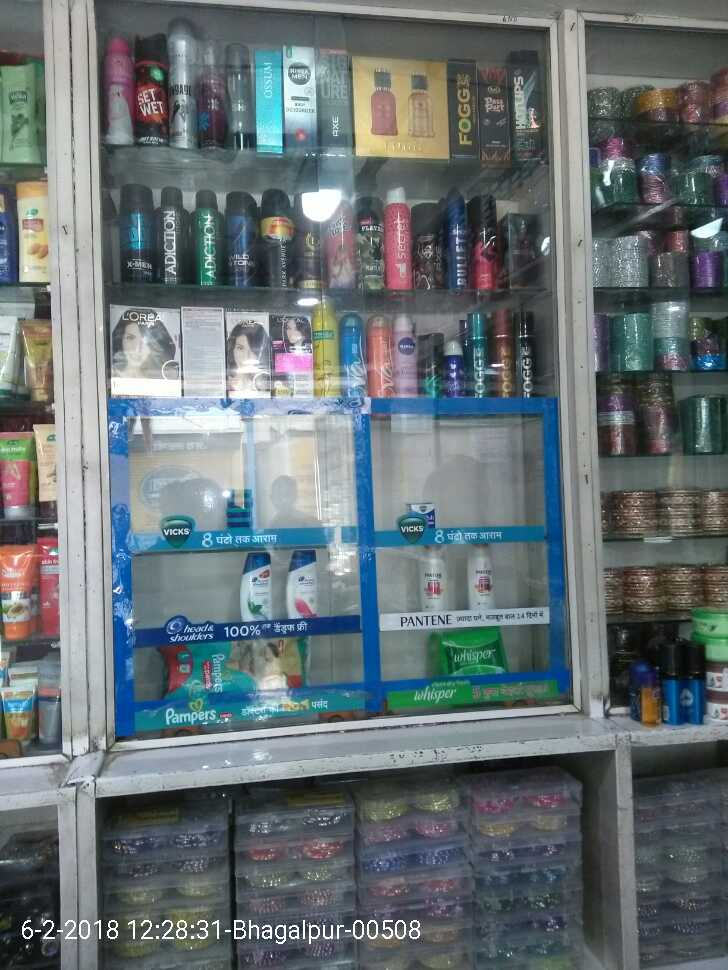vicks: (224, 486, 271, 532), (407, 494, 438, 528)
